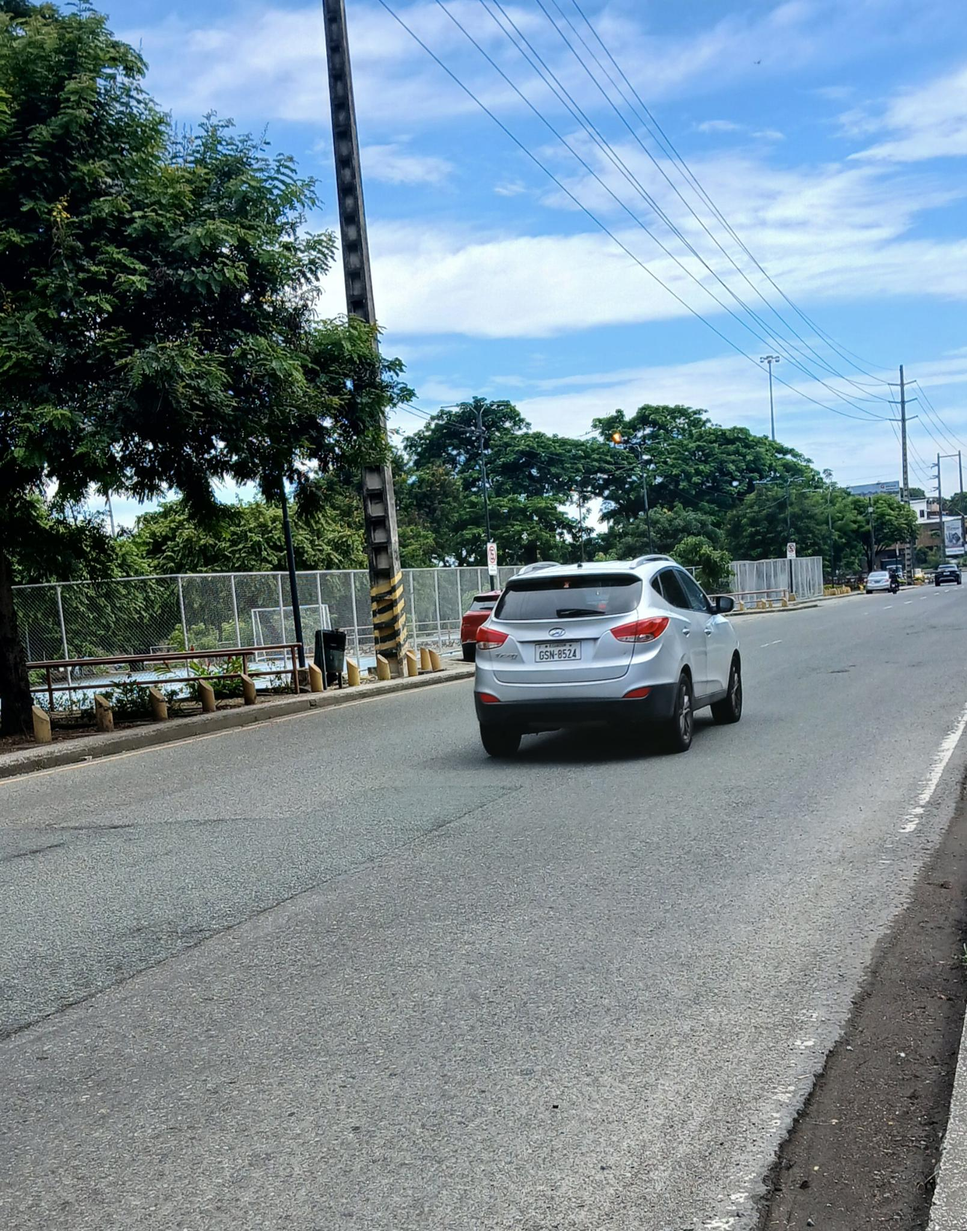license_plate: (532, 641, 580, 662)
